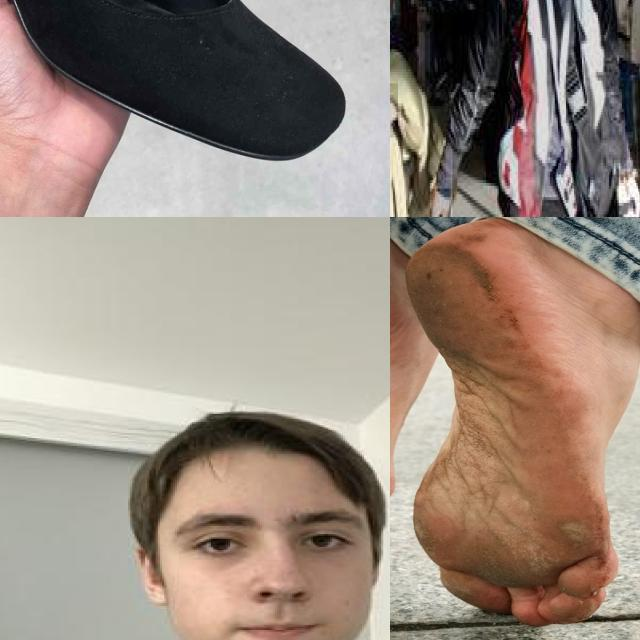Barefoots: (404, 217, 620, 627)
No_Ear-Protection: (126, 534, 190, 609)
No_Glasses: (160, 501, 371, 573)
Sandals: (0, 0, 355, 178)
face_nomask: (157, 495, 370, 640)
hand_noglove: (618, 168, 640, 217), (429, 188, 452, 217), (390, 83, 399, 140)
head_nohelmet: (141, 414, 375, 488)
person: (0, 388, 390, 640), (452, 0, 628, 217)
